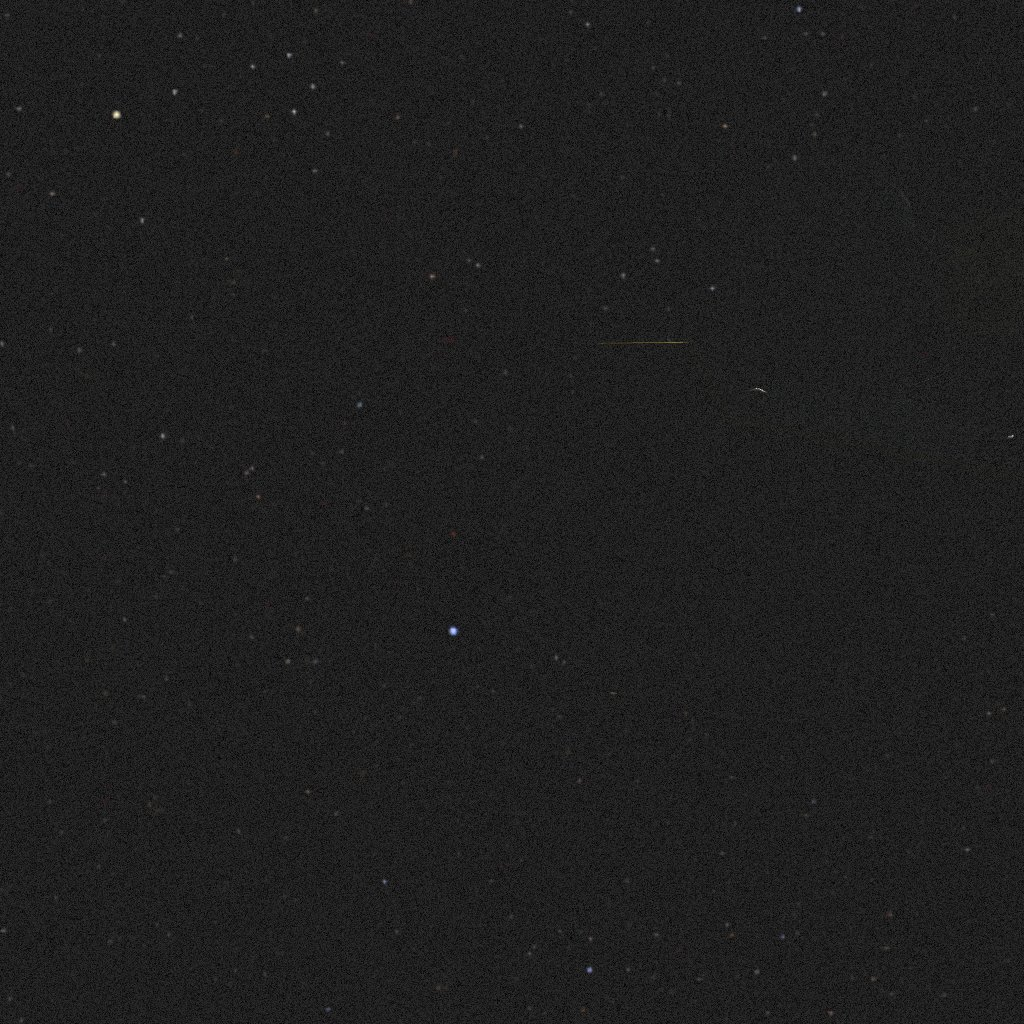cheops: (512, 161, 1024, 745)
